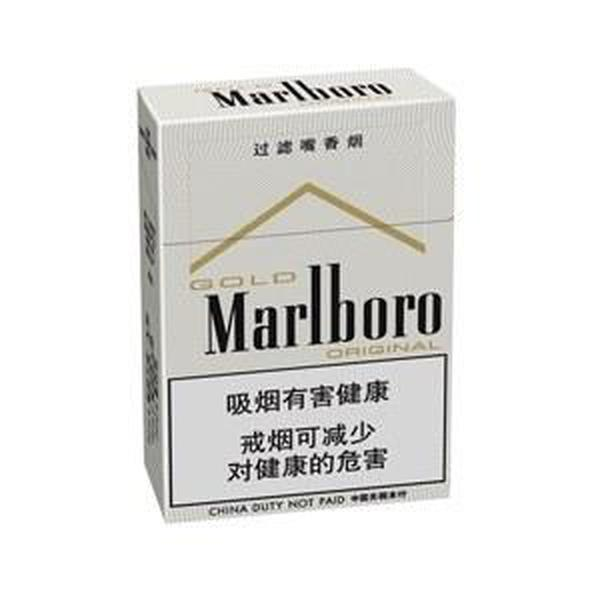marlboro_gold: (158, 107, 445, 506)
